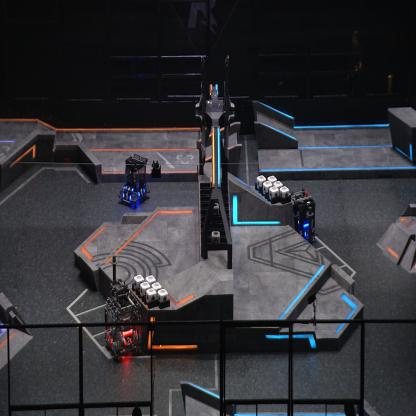car: (104, 281, 143, 358), (117, 154, 151, 209), (286, 189, 316, 243)
